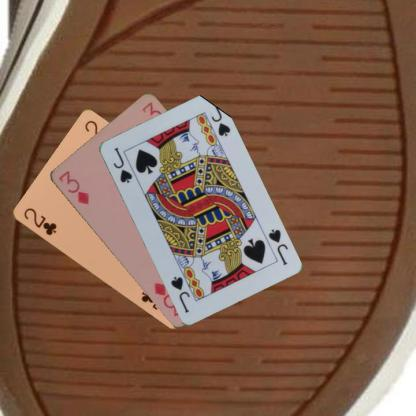2c: (21, 205, 58, 237)
3d: (56, 168, 90, 206)
Js: (265, 226, 289, 267), (110, 144, 133, 184)
